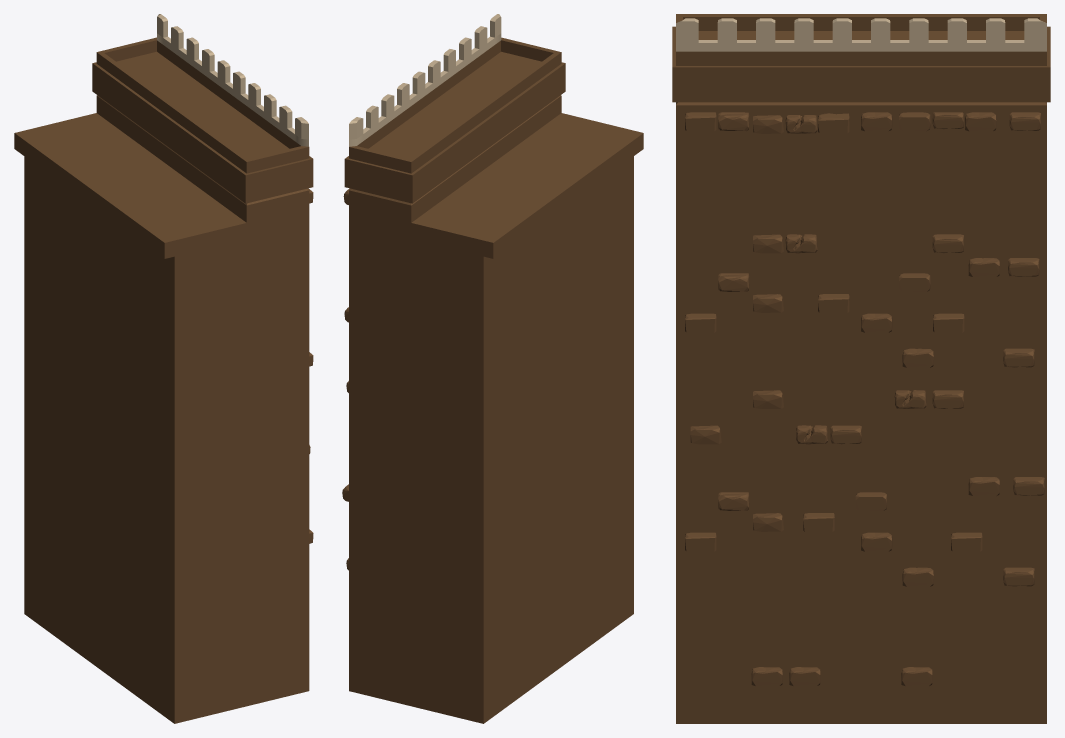
Rendered from SM_wall_part_02.fbx.
3 renders of one model, left to right at view 1: azimuth 30°, elevation 25°; view 2: azimuth 150°, elevation 25°; view 3: azimuth 270°, elevation 25°, orthographic. The views are drawn at different scales.
Parts seen in each view (by area): view 1: wall_part_02; view 2: wall_part_02; view 3: wall_part_02.
Boxes of the visible parts, x1,y1,x2,y2 form: wall_part_02: (14,14,313,723); wall_part_02: (342,14,643,723); wall_part_02: (672,14,1050,723).
Size of the model in its own units: 300 by 1044 by 510.
